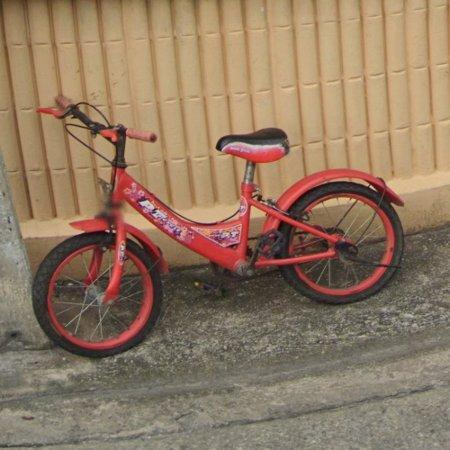bicycles: (33, 97, 405, 357)
